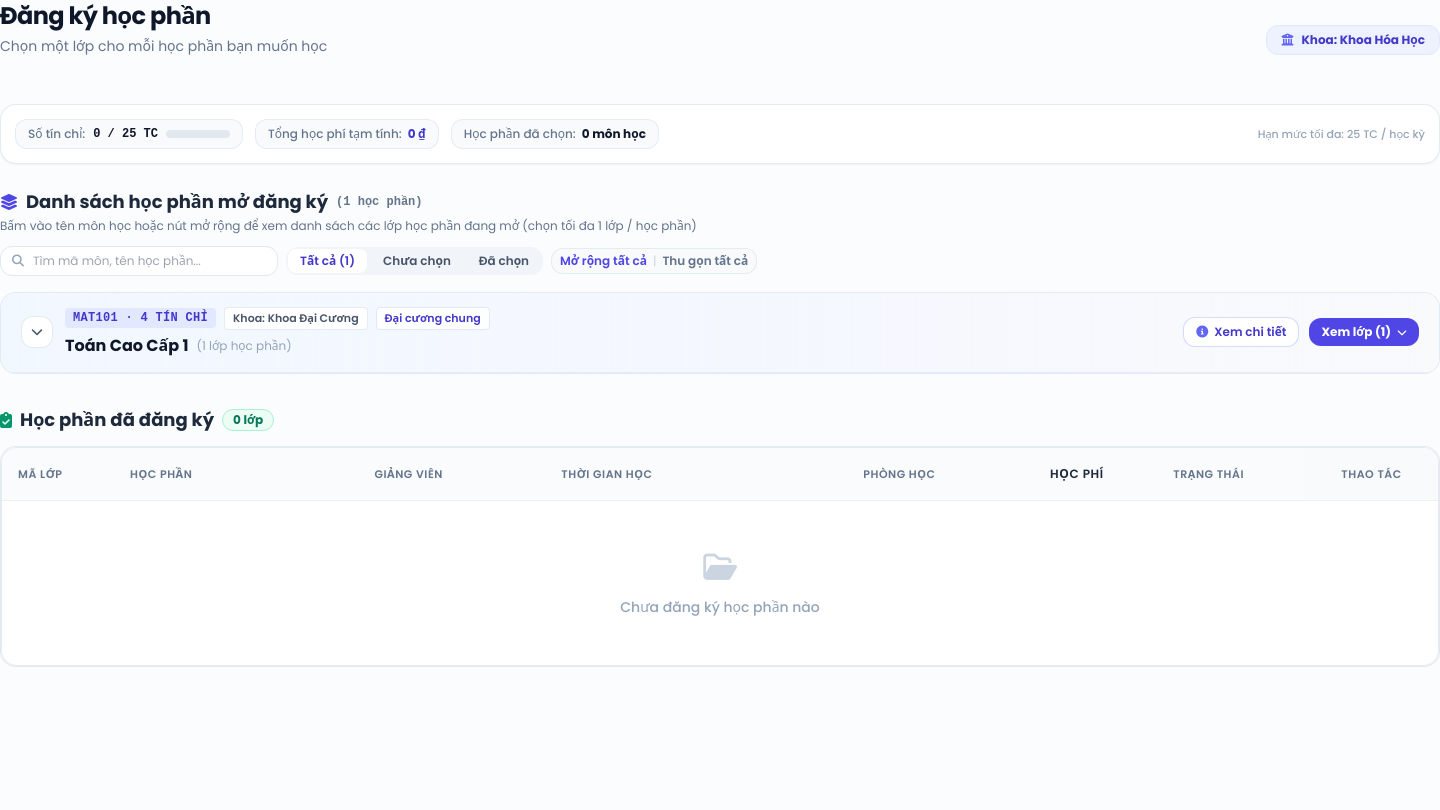
StudentCourseRegistration Course Details Modal & General Education Filtering & Compact UI › displays General Education classification in modal for general education courses
The width and height of the screenshot is (1440, 810).
Note: Click "Xem chi tiết"
Click the button "Xem chi tiết": (1241, 332) [1183, 317, 1300, 347]
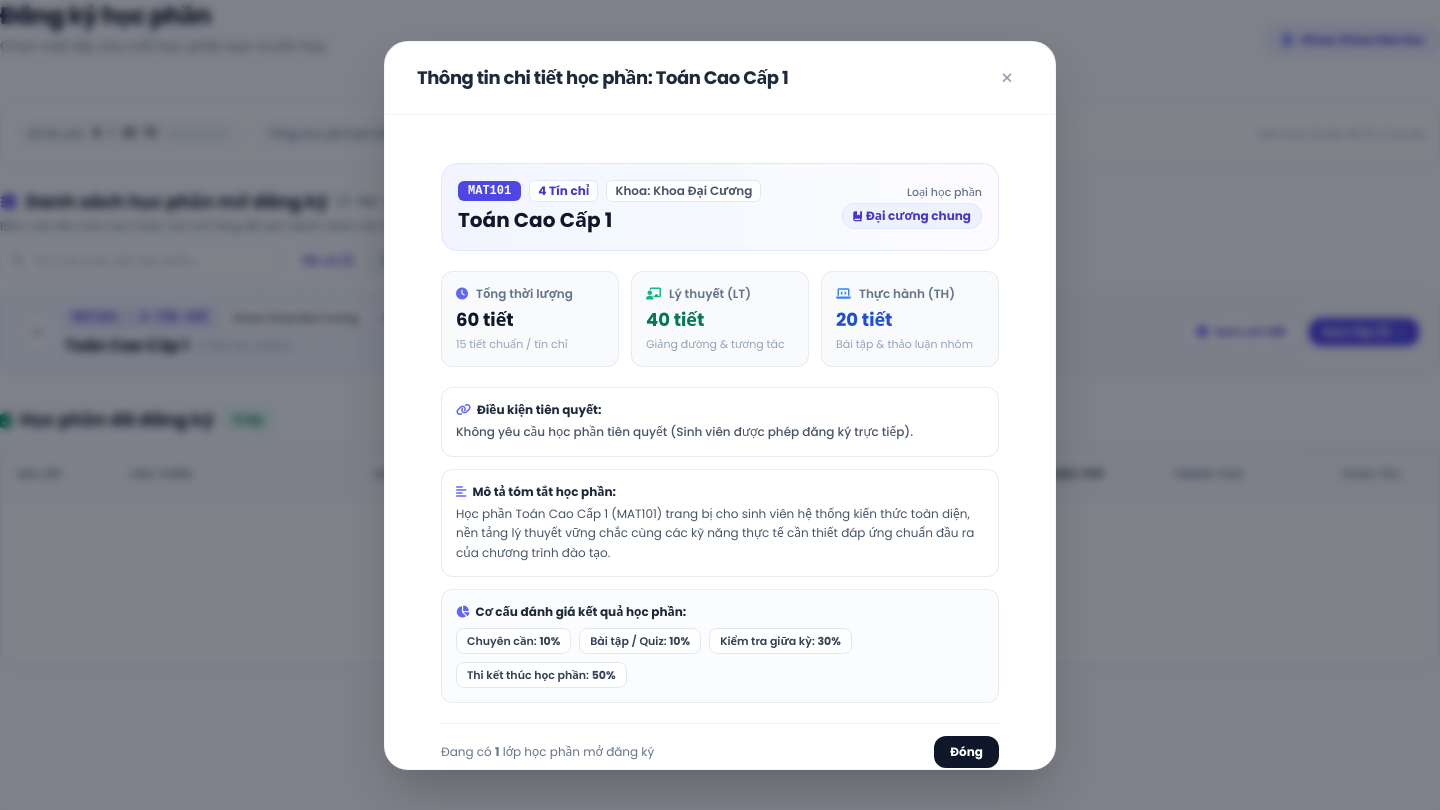
Expected: the heading "Thông tin chi tiết học phần: Toán Cao Cấp 1" is shown, [417, 64, 788, 92]
Expected: the text "60 tiết" is shown, [456, 306, 514, 332]
Expected: the text "40 tiết" is shown, [646, 306, 704, 332]
